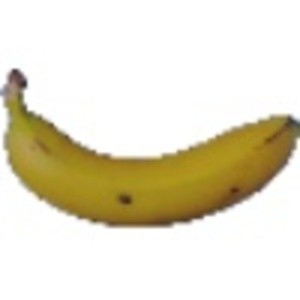banana: (2, 65, 297, 230)
